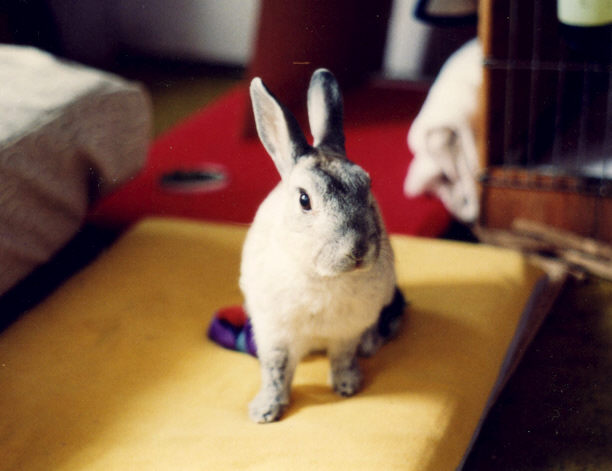bunny: (223, 57, 425, 421)
